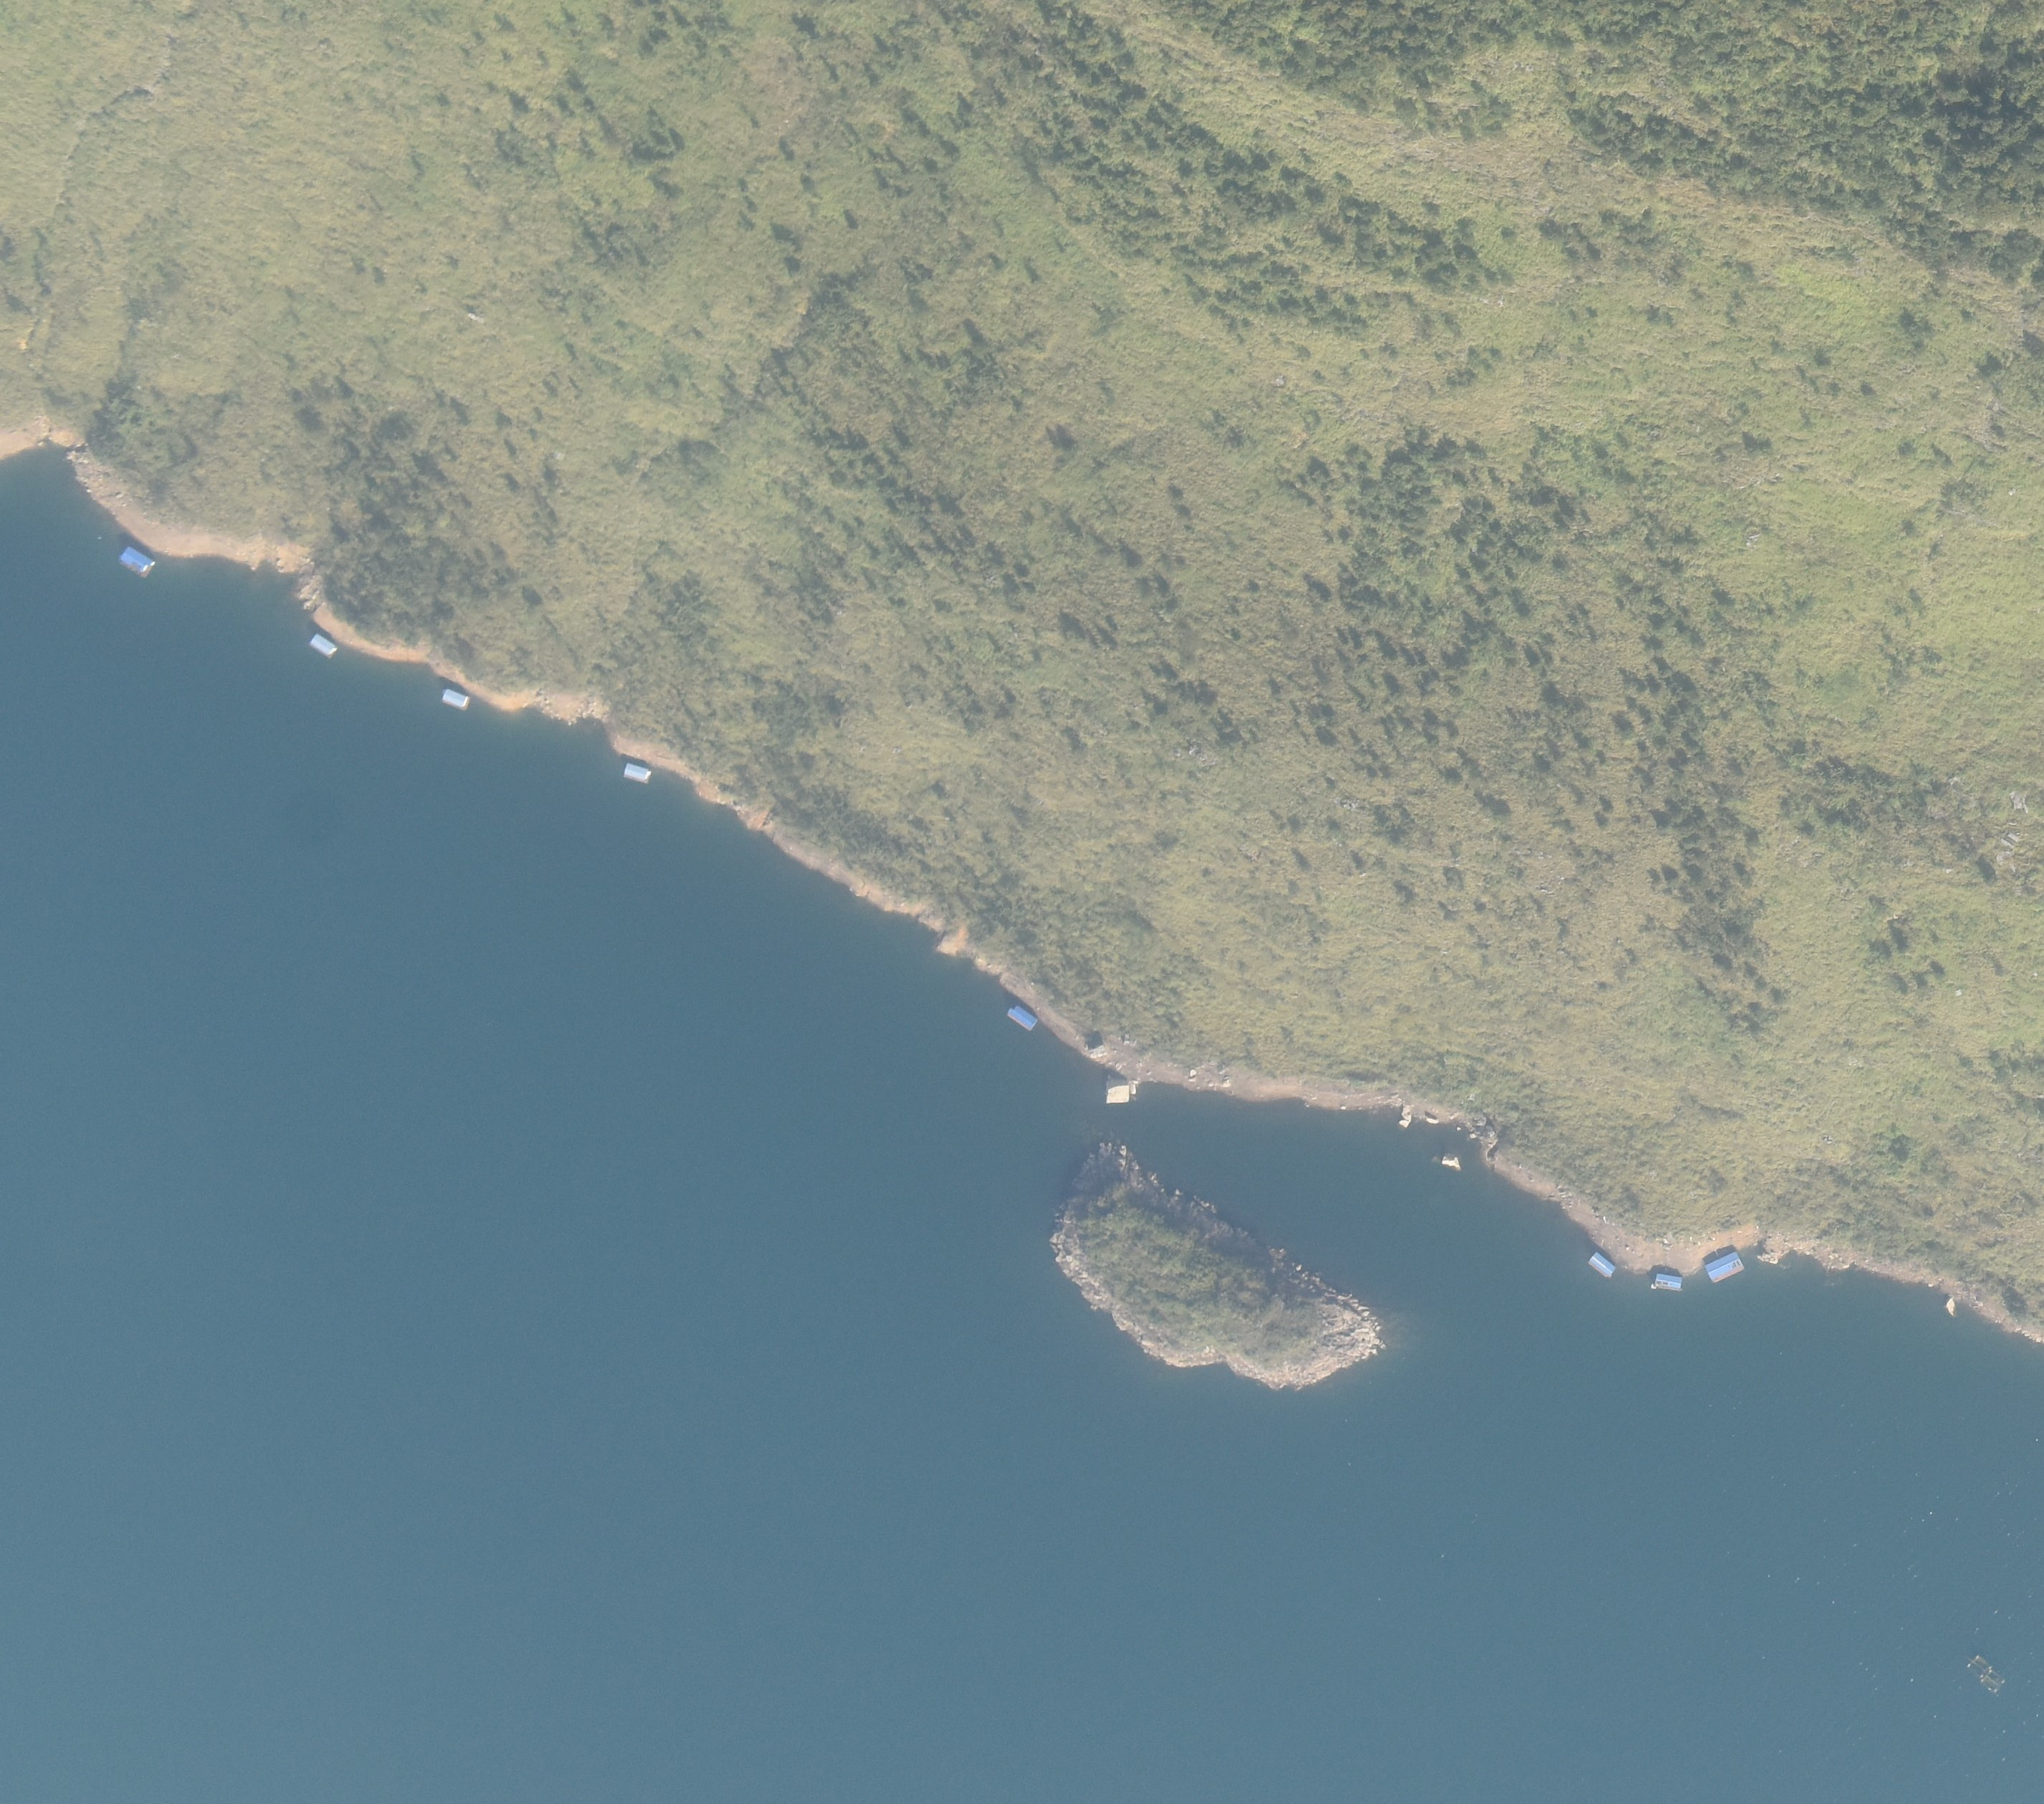cultivation-mesh-cage: (1969, 1654, 2008, 1695)
prefabricated-house: (1704, 1252, 1744, 1284), (119, 544, 153, 576), (1006, 1002, 1039, 1030), (1587, 1251, 1618, 1279), (622, 762, 649, 784), (310, 634, 335, 657), (440, 689, 467, 709), (1653, 1274, 1682, 1291)
